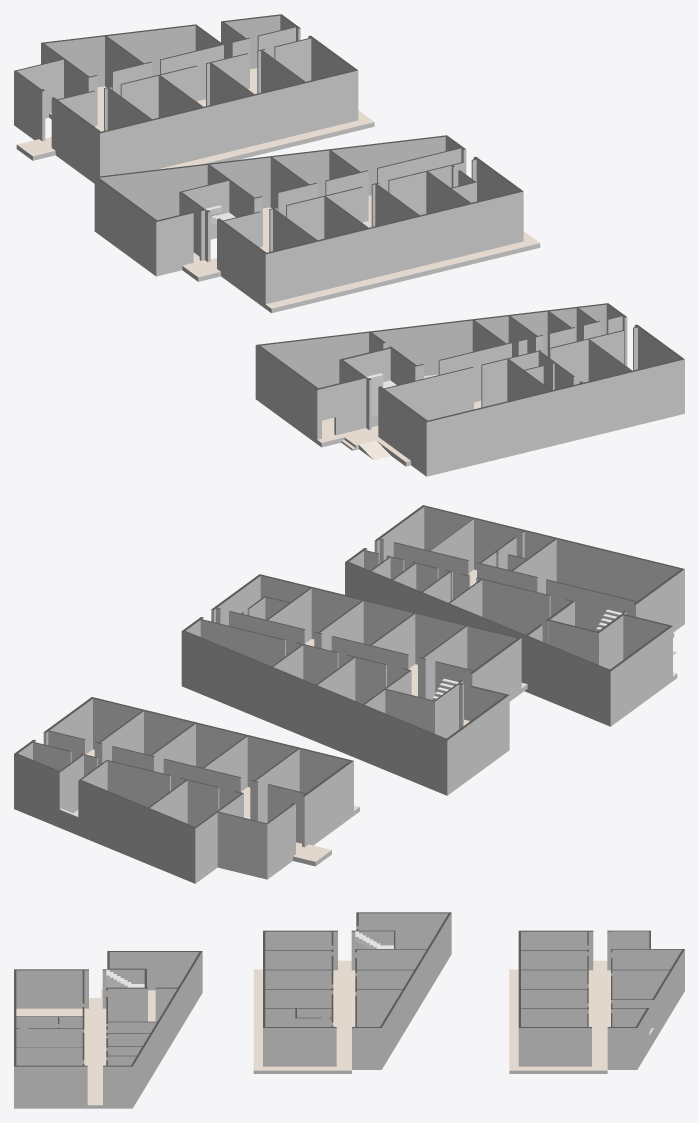
The picture shows the model from 3 angles, top to bottom: view 1: azimuth 30°, elevation 25°; view 2: azimuth 150°, elevation 25°; view 3: azimuth 270°, elevation 25°; orthographic projection. The views are drawn at different scales.
Visible parts, largest first — view 1: 94773, 94309, 95219, 94771, 94307, 95217, 94553, 95031, 93827; view 2: 94773, 95219, 94309, 94771, 94307, 95217, 95031; view 3: 94773, 94309, 95219, 95031, 94553, 93827, 94771, 94307, 95217.
Part boxes in pixels (x1=…): 94773: x1=94, y1=136, x2=540, y2=313; 94309: x1=255, y1=304, x2=684, y2=476; 95219: x1=14, y1=15, x2=374, y2=183; 94771: x1=95, y1=135, x2=523, y2=254; 94307: x1=256, y1=303, x2=684, y2=422; 95217: x1=14, y1=14, x2=357, y2=133; 94553: x1=182, y1=195, x2=539, y2=308; 95031: x1=17, y1=68, x2=374, y2=169; 93827: x1=318, y1=374, x2=481, y2=461; 94773: x1=181, y1=576, x2=527, y2=795; 95219: x1=14, y1=698, x2=359, y2=883; 94309: x1=345, y1=507, x2=684, y2=726; 94771: x1=182, y1=574, x2=520, y2=740; 94307: x1=345, y1=505, x2=684, y2=671; 95217: x1=14, y1=697, x2=353, y2=828; 95031: x1=73, y1=749, x2=359, y2=861; 94773: x1=253, y1=913, x2=451, y2=1073; 94309: x1=14, y1=951, x2=202, y2=1108; 95219: x1=509, y1=931, x2=684, y2=1073; 95031: x1=509, y1=960, x2=610, y2=1070; 94553: x1=253, y1=960, x2=355, y2=1070; 93827: x1=16, y1=989, x2=155, y2=1105; 94771: x1=263, y1=912, x2=451, y2=1027; 94307: x1=14, y1=951, x2=202, y2=1066; 95217: x1=518, y1=930, x2=684, y2=1027.
Size of the model in its own units: 36.63 by 11.5 by 86.79.
